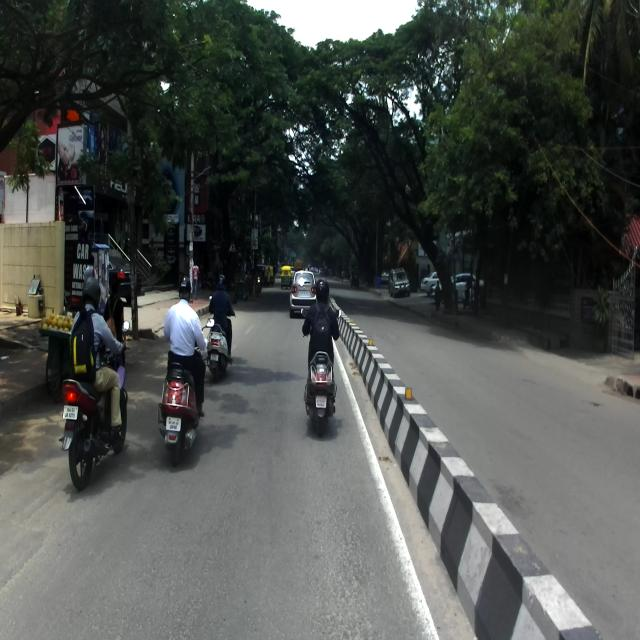motorcycle ahead at: (58, 371, 130, 486), (158, 372, 209, 464), (303, 344, 340, 427)
